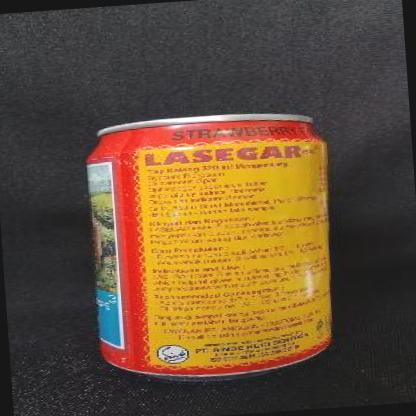alumunium_can: (84, 107, 342, 388)
